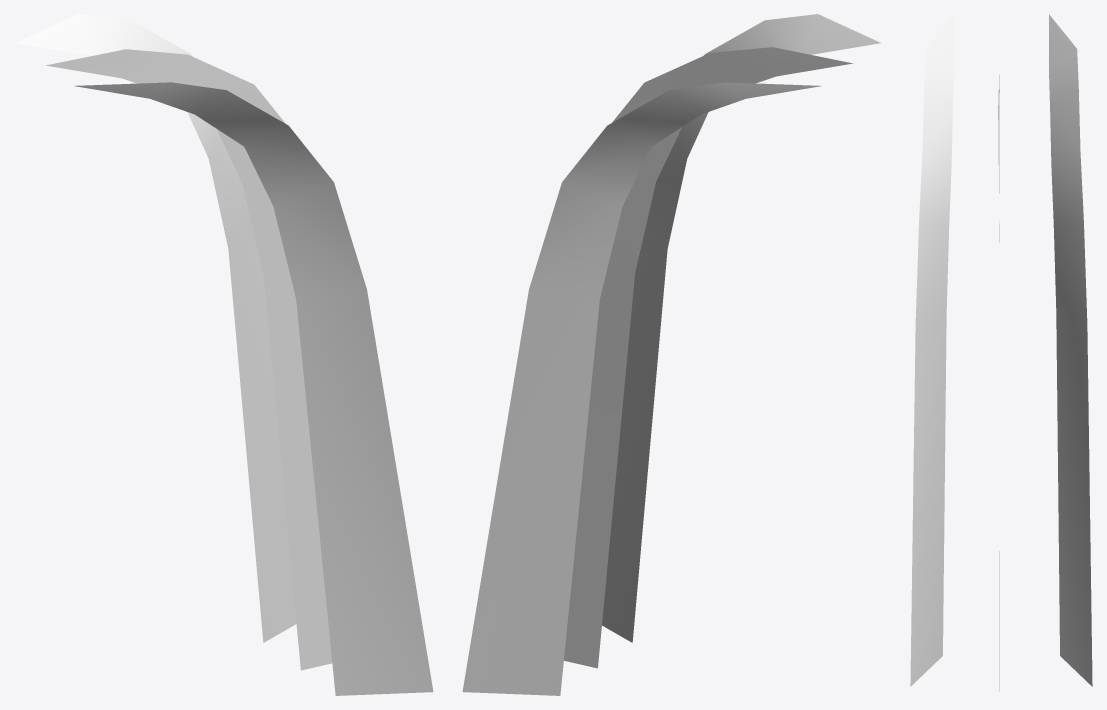
File: cj_waterfall02_05.glb
The picture shows the model from 3 angles, left to right: view 1: azimuth 30°, elevation 25°; view 2: azimuth 150°, elevation 25°; view 3: azimuth 270°, elevation 25°; orthographic projection. The views are drawn at different scales.
Visible parts, largest first — view 1: cj_waterfall02_05; view 2: cj_waterfall02_05; view 3: cj_waterfall02_05.
Boxes of the visible parts, x1,y1,x2,y2 form: cj_waterfall02_05: [15, 14, 433, 695]; cj_waterfall02_05: [462, 14, 880, 695]; cj_waterfall02_05: [910, 14, 1092, 691].
Size of the model in its own units: 47.15 by 85.18 by 25.93.
Materials: 1 (1 with a texture image).
